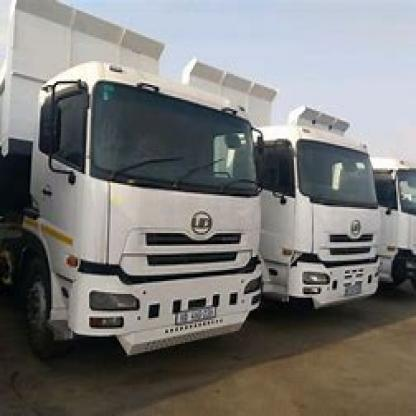dump_truck: (0, 15, 262, 368), (263, 57, 378, 353)
